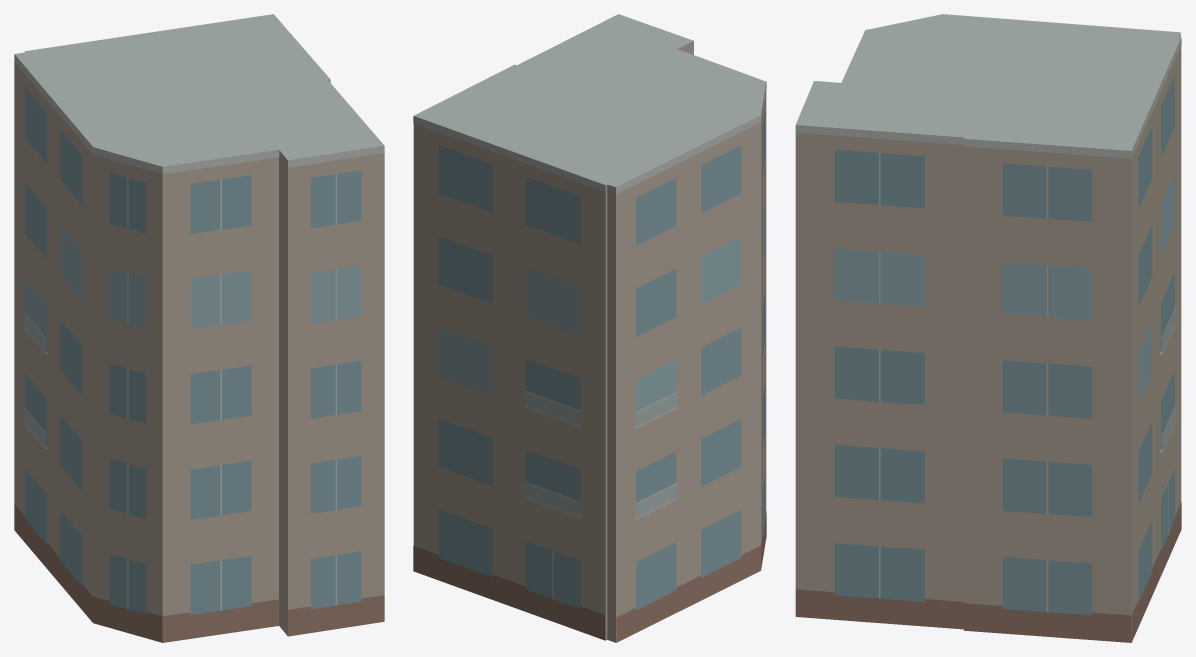
File: survey-upis-32981773.glb
3 renders of one model, left to right at view 1: azimuth 30°, elevation 25°; view 2: azimuth 150°, elevation 25°; view 3: azimuth 270°, elevation 25°, orthographic. The views are drawn at different scales.
Visible parts, largest first — view 1: survey-upis-32981773.tmp; view 2: survey-upis-32981773.tmp; view 3: survey-upis-32981773.tmp.
Part boxes in pixels (box(x1,y1,x2,y2)): survey-upis-32981773.tmp: box(14, 14, 384, 642); survey-upis-32981773.tmp: box(413, 14, 766, 642); survey-upis-32981773.tmp: box(795, 14, 1181, 642).
Size of the model in its own units: 9.33 by 15.6 by 11.1.
